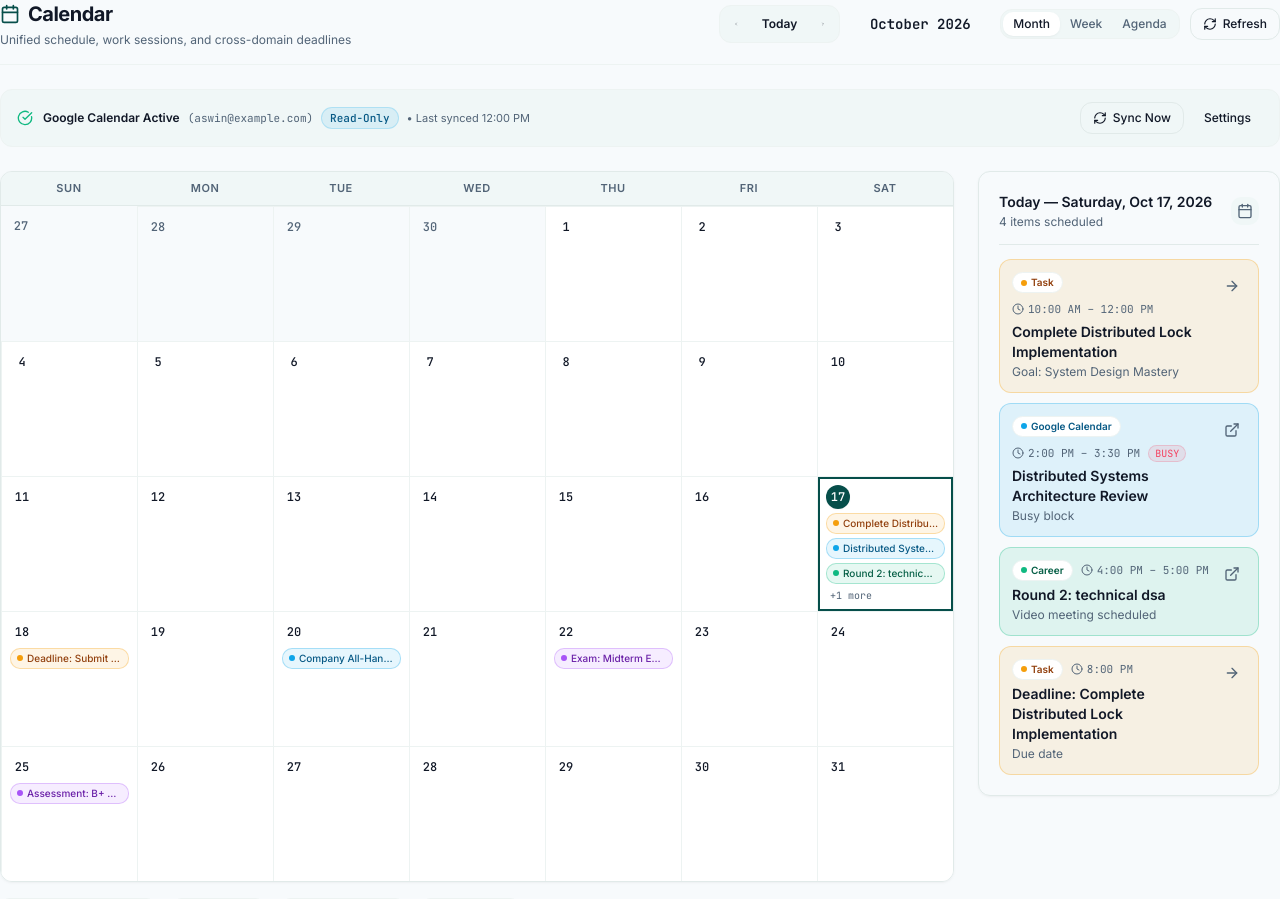
it: CalendarPage (Phase 18C Unified Calendar) › aggregates Google Calendar, tasks, exams, and interviews in the Agenda view
The image size is (1280, 899).
Note: Switch to Agenda view
Click the button "Agenda": click(1144, 24) top-left (1112, 12), bottom-right (1177, 36)
(page scrolled)
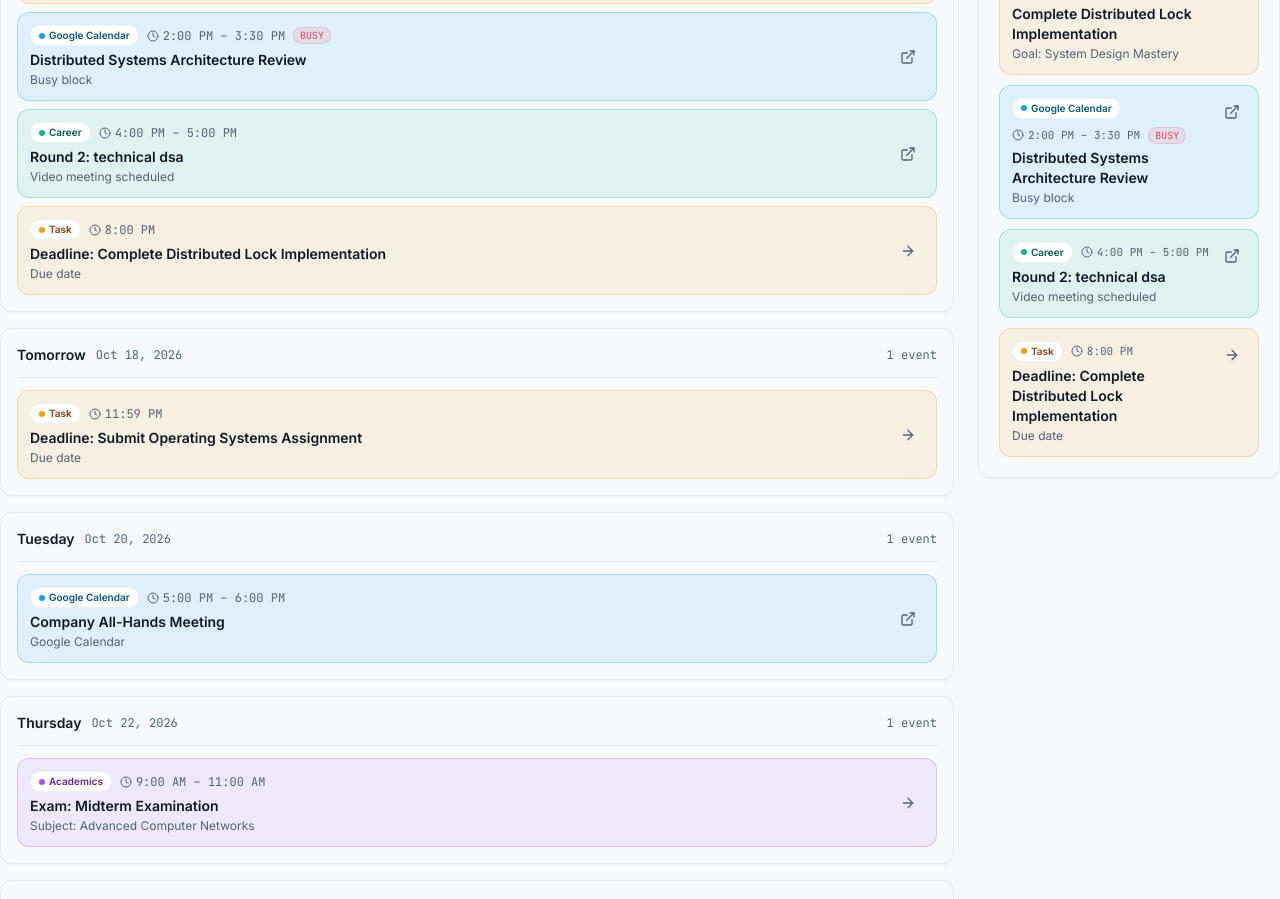
Result: the element with test id "calendar-agenda-view" shows "Distributed Systems Architecture Review" at top-left (30, 51), bottom-right (307, 68)
Result: the element with test id "calendar-agenda-view" shows "Deadline: Complete Distributed Lock Implementation" at top-left (30, 245), bottom-right (386, 262)
Result: the element with test id "calendar-agenda-view" shows "Round 2: technical dsa" at top-left (30, 148), bottom-right (184, 165)
